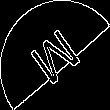M_SE: (24, 21, 86, 89)
